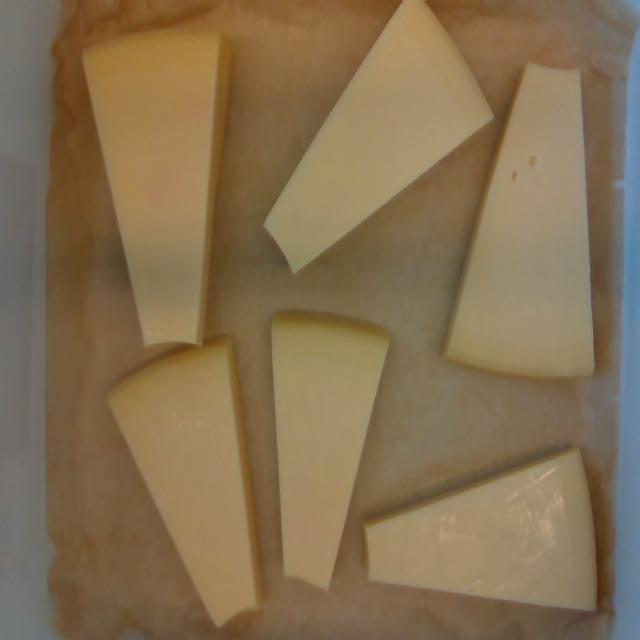cheese: (265, 0, 491, 271), (445, 64, 593, 376), (83, 31, 222, 343), (111, 340, 259, 624), (366, 449, 595, 609), (272, 316, 388, 587)
